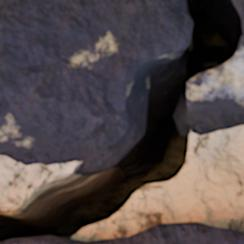brick: (0, 223, 243, 243)
broken_brick: (0, 0, 191, 167), (187, 37, 243, 136), (236, 0, 243, 14)
crack: (0, 0, 243, 242)
